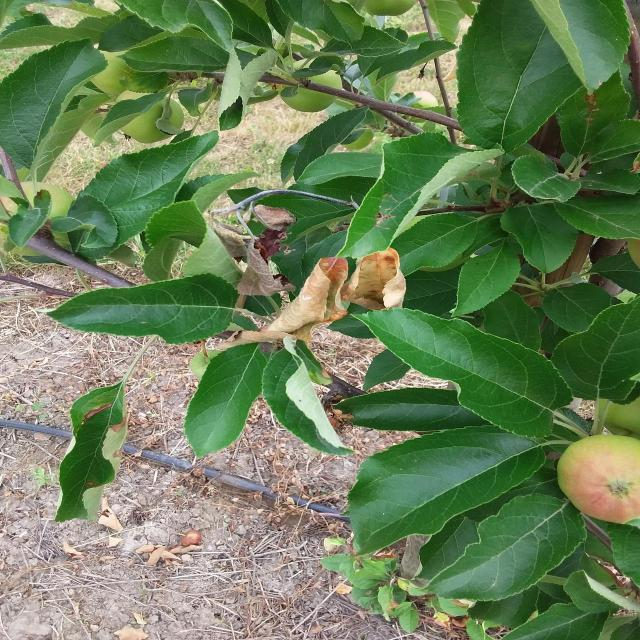-FireBlight-: (239, 284, 412, 346), (212, 198, 284, 284)
